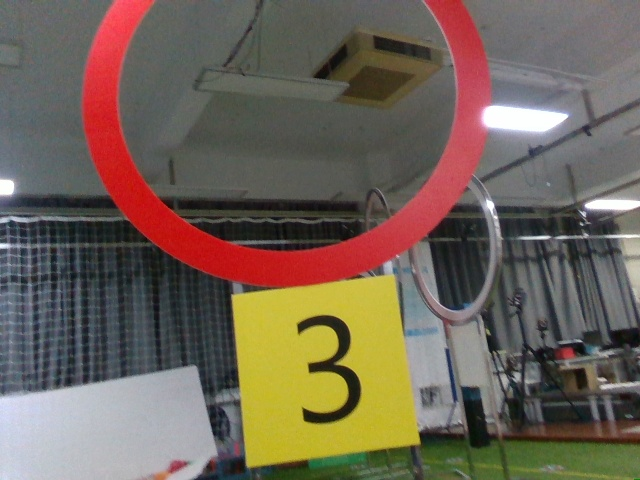target: (239, 295, 408, 456)
